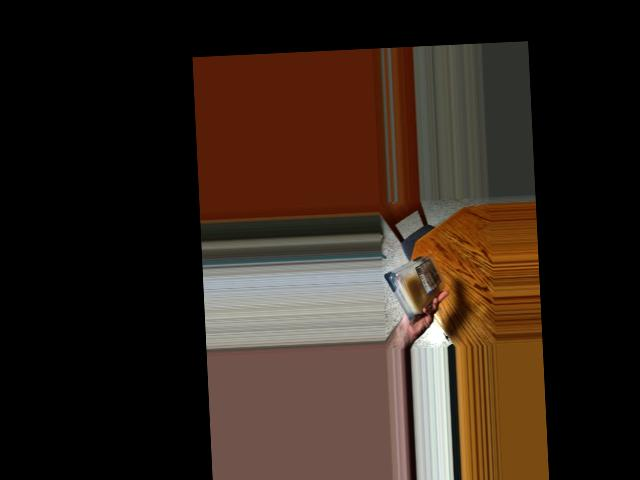cheese: (388, 254, 436, 322)
